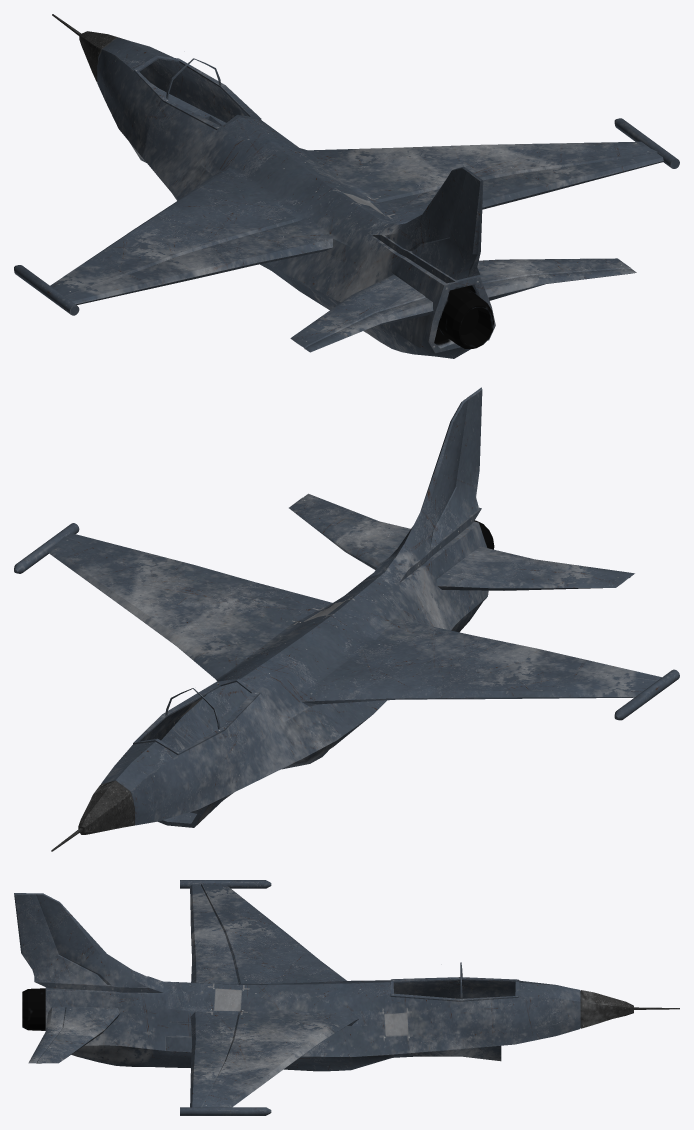
Rendered from JetFighterLP.fbx.
3 renders of one model, top to bottom at view 1: azimuth 30°, elevation 25°; view 2: azimuth 150°, elevation 25°; view 3: azimuth 270°, elevation 25°, orthographic. The views are drawn at different scales.
Visible parts, largest first — view 1: Cylinder.003; view 2: Cylinder.003; view 3: Cylinder.003.
Part boxes in pixels (x1,y1,x2,y2): Cylinder.003: [14, 14, 679, 358]; Cylinder.003: [14, 387, 679, 851]; Cylinder.003: [14, 880, 679, 1115].
Size of the model in its own units: 1288 by 451 by 1571.
1 material, 1 textured.
